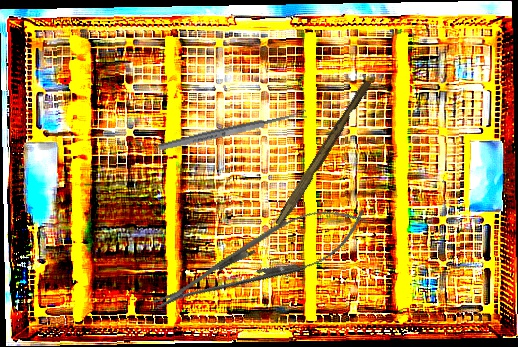Needle Holder: (141, 189, 376, 331)
Scalpel Handle: (274, 77, 373, 230)
Surgical Spoon: (158, 108, 308, 153)
